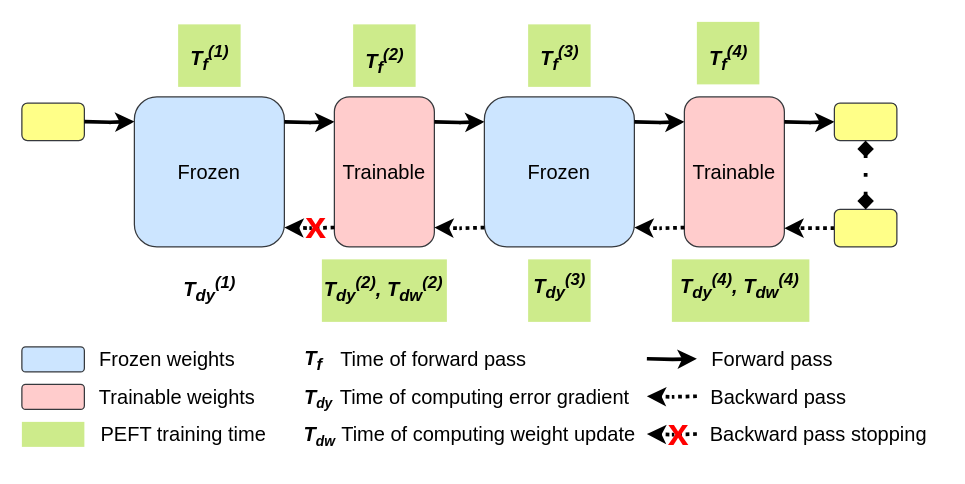
Image size: 965x484. Some labels were removed from this diagram. The shapes that lost their labels are listed below. From the top down, each one's box as (x1, y1, x2, y2) in pixels, then its label:
(21, 102, 84, 141): Input
(833, 102, 897, 141): Pred.
(833, 208, 897, 247): Label
